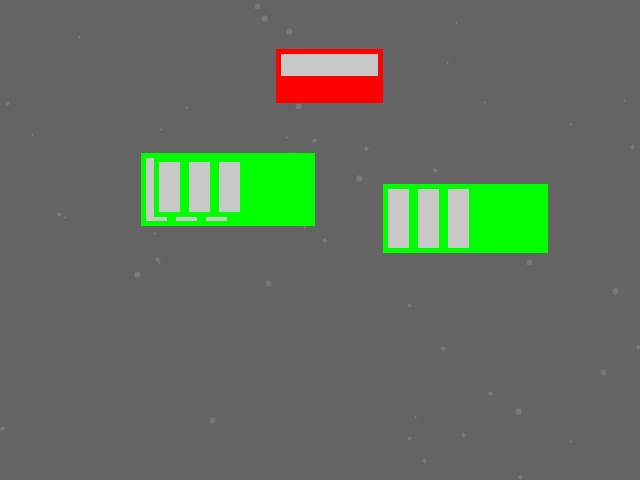bus: (141, 153, 314, 225), (383, 184, 547, 252), (154, 157, 297, 216)
car: (276, 49, 382, 102)
